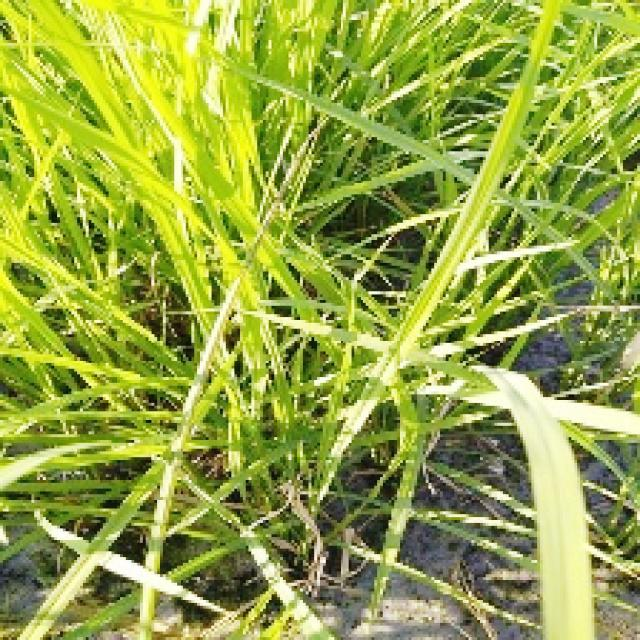health: (0, 0, 370, 486)
